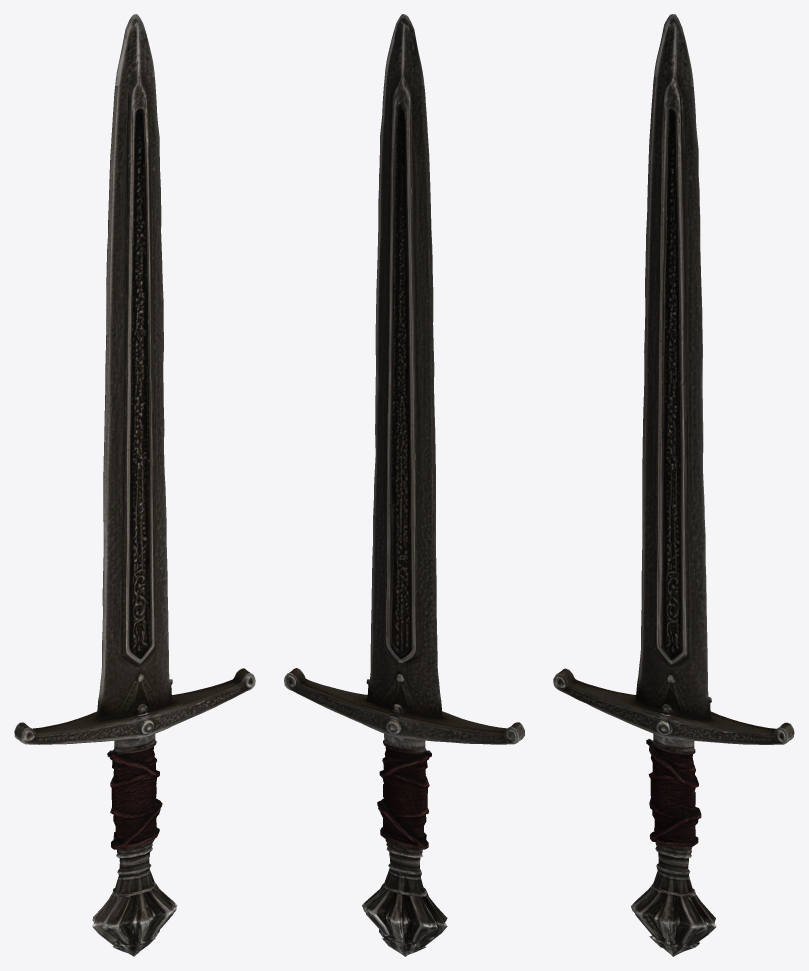
Rendered from sword-dark-cmtvomjcx00072etq8bbl9bx3.glb.
3 renders of one model, left to right at view 1: azimuth 30°, elevation 25°; view 2: azimuth 150°, elevation 25°; view 3: azimuth 330°, elevation 25°, orthographic.
Visible parts, largest first — view 1: tripo_node_fdbfd23d-2d8f-430a-a21d-a048c20996de; view 2: tripo_node_fdbfd23d-2d8f-430a-a21d-a048c20996de; view 3: tripo_node_fdbfd23d-2d8f-430a-a21d-a048c20996de.
Boxes of the visible parts, <box> form: tripo_node_fdbfd23d-2d8f-430a-a21d-a048c20996de: <box>14,14,255,956</box>; tripo_node_fdbfd23d-2d8f-430a-a21d-a048c20996de: <box>284,14,524,956</box>; tripo_node_fdbfd23d-2d8f-430a-a21d-a048c20996de: <box>553,14,794,956</box>.
Bounding box in the file's own units: 0.25 × 0.96 × 0.046.
1 material, 1 textured.
